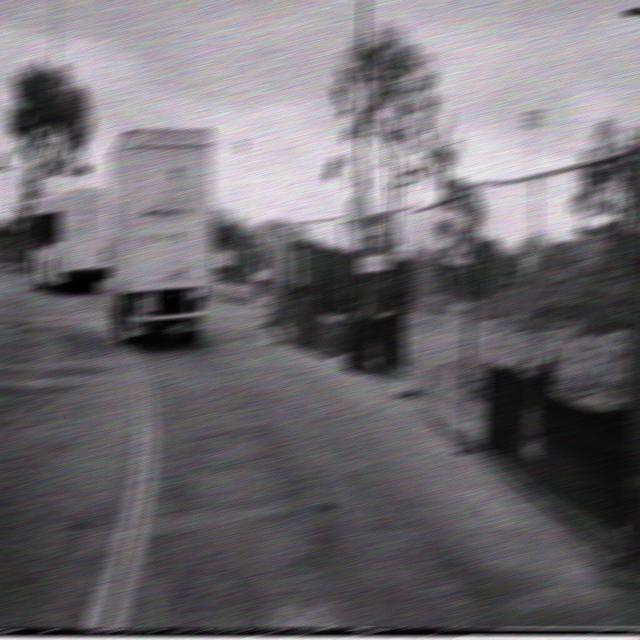stop: (346, 189, 374, 236)
